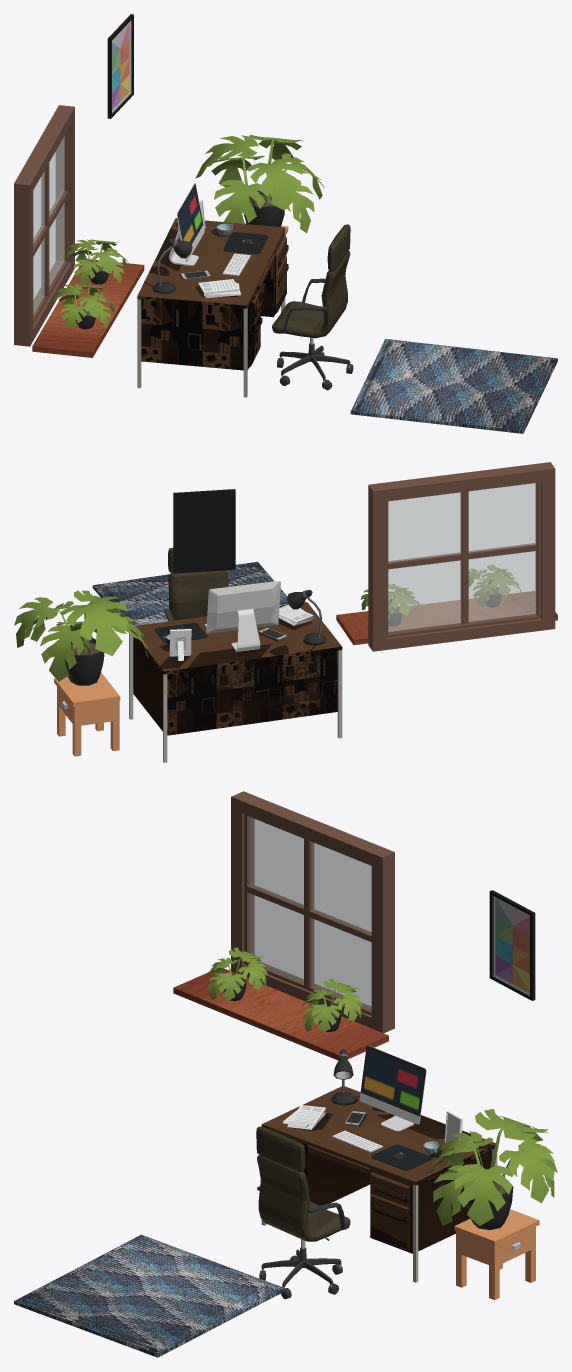
The model's file is room2.gltf.
3 views of the same model, one above another, from view 1: azimuth 30°, elevation 25°; view 2: azimuth 150°, elevation 25°; view 3: azimuth 270°, elevation 25° (orthographic). The views are drawn at different scales.
Visible parts, largest first — view 1: Node.003, Plane.001, Node.001, Houseplant-bfLOqIV5uP.001, Chair.003, Cube.001, Node, Houseplant-bfLOqIV5uP.002, Houseplant-bfLOqIV5uP, Monitor.001|iMac|Dupli|, Mousepad, Light Desk.001 (+1 smaller); view 2: Node.001, Node.003, Houseplant-bfLOqIV5uP.001, Node, Monitor.001|iMac|Dupli|, Plane.001, Cabinet Bed Drawer Tabl, Cube.001, Chair.003, Houseplant-bfLOqIV5uP, Houseplant-bfLOqIV5uP.002, Light Desk.001 (+3 smaller); view 3: Node.001, Plane.001, Node.003, Houseplant-bfLOqIV5uP.001, Chair.003, Cube.001, Node, Cabinet Bed Drawer Tabl, Monitor.001|iMac|Dupli|, Houseplant-bfLOqIV5uP.002, Houseplant-bfLOqIV5uP, Mousepad (+2 smaller).
Part boxes in pixels (x1,y1,x2,y2): Node.003: (137, 218, 288, 397); Plane.001: (350, 339, 557, 433); Node.001: (14, 105, 74, 346); Houseplant-bfLOqIV5uP.001: (195, 134, 324, 233); Chair.003: (272, 224, 353, 390); Cube.001: (32, 259, 144, 357); Node: (107, 14, 133, 118); Houseplant-bfLOqIV5uP.002: (64, 239, 128, 284); Houseplant-bfLOqIV5uP: (51, 284, 115, 329); Monitor.001|iMac|Dupli|: (169, 183, 204, 265); Mousepad: (223, 232, 267, 253); Light Desk.001: (153, 238, 192, 293); Node.001: (368, 462, 555, 651); Node.003: (129, 602, 342, 762); Houseplant-bfLOqIV5uP.001: (14, 590, 148, 685); Node: (173, 489, 235, 573); Monitor.001|iMac|Dupli|: (206, 581, 280, 651); Plane.001: (92, 561, 288, 625); Cabinet Bed Drawer Tabl: (54, 672, 120, 756); Cube.001: (336, 591, 557, 645); Chair.003: (164, 547, 228, 621); Houseplant-bfLOqIV5uP: (469, 565, 521, 607); Houseplant-bfLOqIV5uP.002: (360, 584, 422, 625); Light Desk.001: (286, 590, 325, 644); Node.001: (231, 791, 394, 1033); Plane.001: (14, 1234, 284, 1357); Node.003: (261, 1086, 497, 1282); Houseplant-bfLOqIV5uP.001: (430, 1109, 557, 1229); Chair.003: (256, 1126, 350, 1299); Cube.001: (173, 968, 388, 1060); Node: (489, 890, 535, 1000); Cabinet Bed Drawer Tabl: (454, 1209, 539, 1299); Monitor.001|iMac|Dupli|: (359, 1045, 426, 1131); Houseplant-bfLOqIV5uP.002: (302, 978, 362, 1032); Houseplant-bfLOqIV5uP: (207, 947, 267, 1001); Mousepad: (371, 1144, 432, 1170).
Bounding box in the file's own units: 5.35 × 3.05 × 4.57.
Materials: 55 (7 with a texture image).
